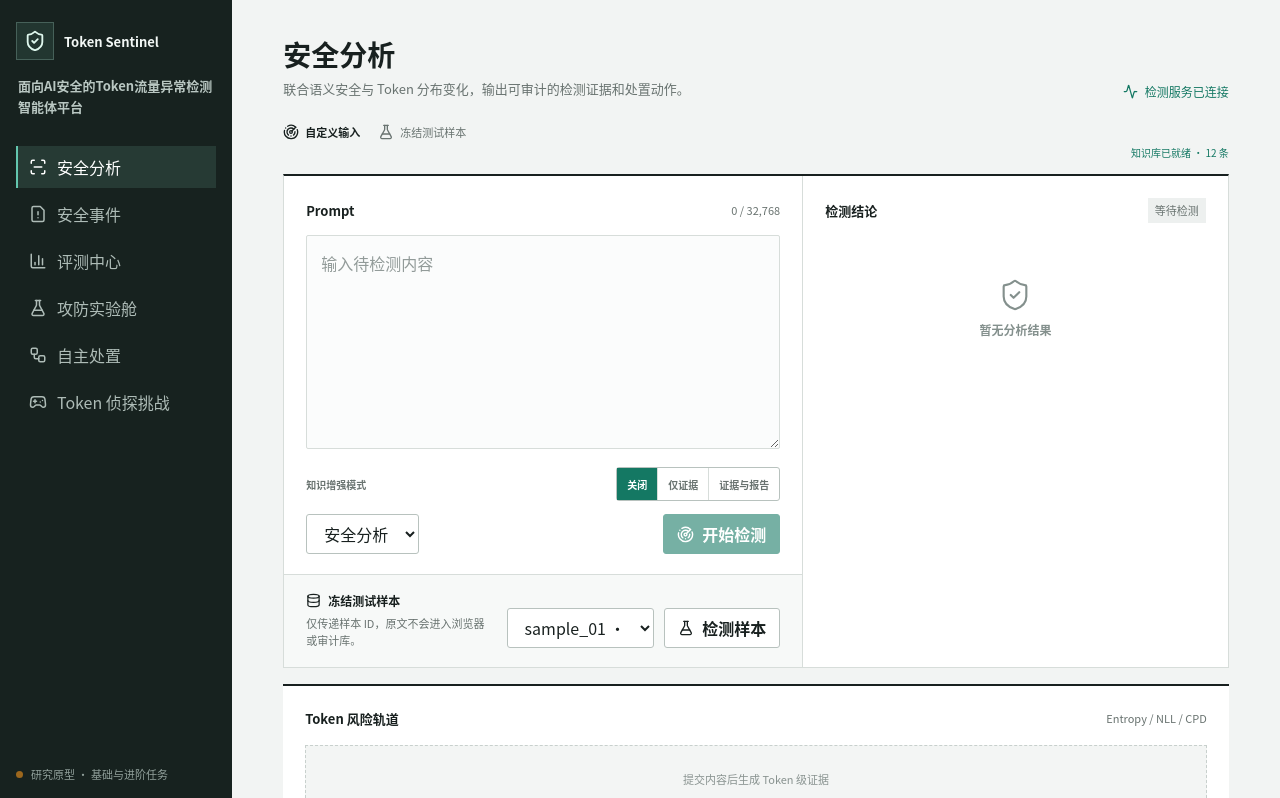
Test: competition security console › renders the auditable analyze decision trace without changing the analysis request
Expected: the text "检测服务已连接" is shown, [1123,83,1229,100]
Expected: the element "可审计决策轨迹" is not shown
Type "SAFE_TRACE_INPUT" into the text box labelled "Prompt" at (543, 342), box [306,235,780,449]
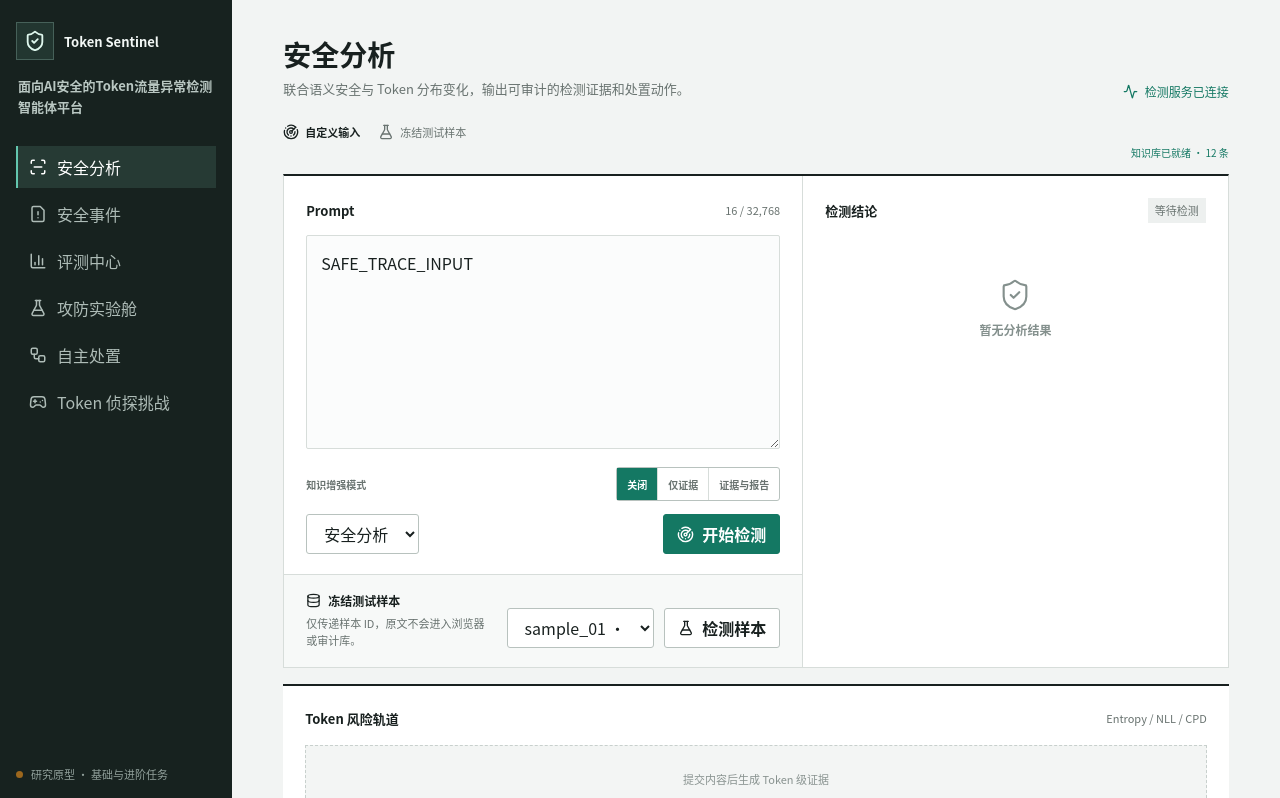
Click the button "开始检测" at (722, 534), box [663,514,780,554]
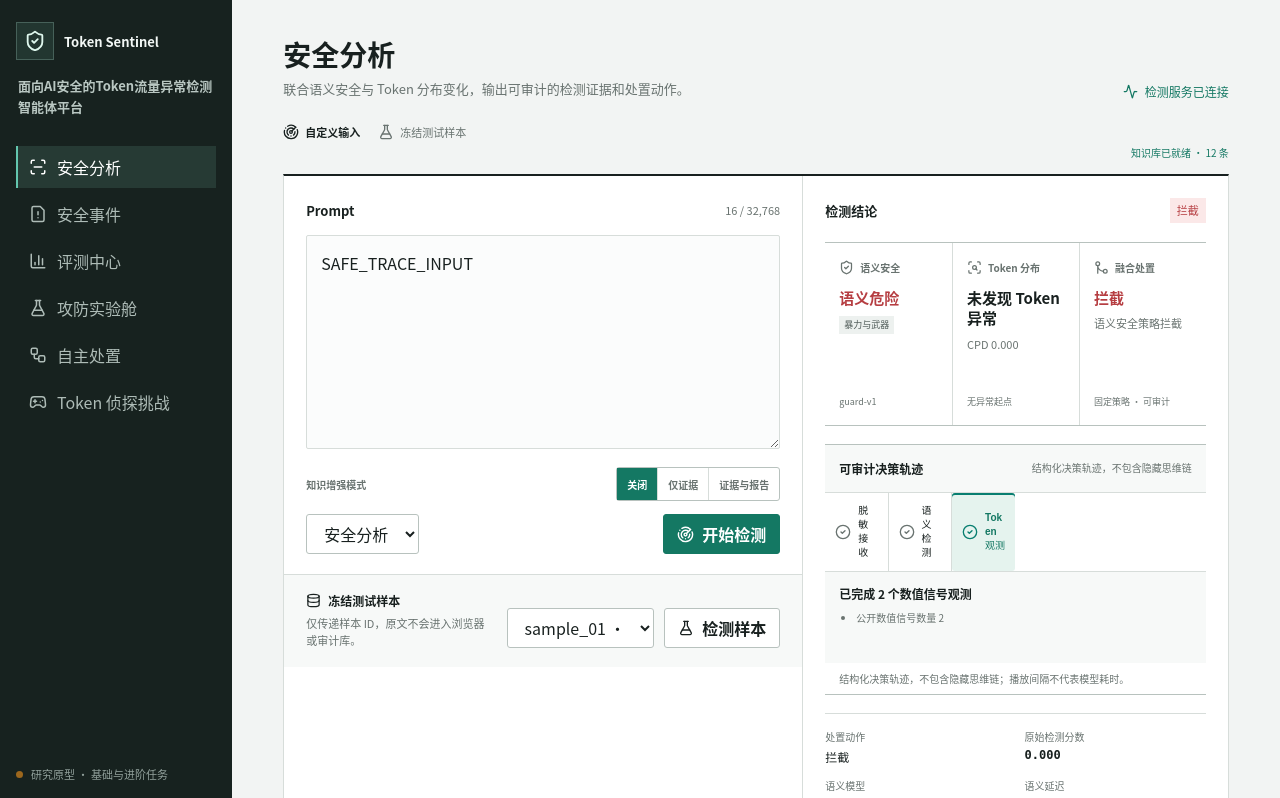
Expected: the element "可审计决策轨迹" is shown, [825,445,1206,694]
Expected: the text "脱敏接收" is shown, [858,505,868,558]
Expected: the text "结构化决策轨迹，不包含隐藏思维链" is shown, [1032,461,1192,476]
